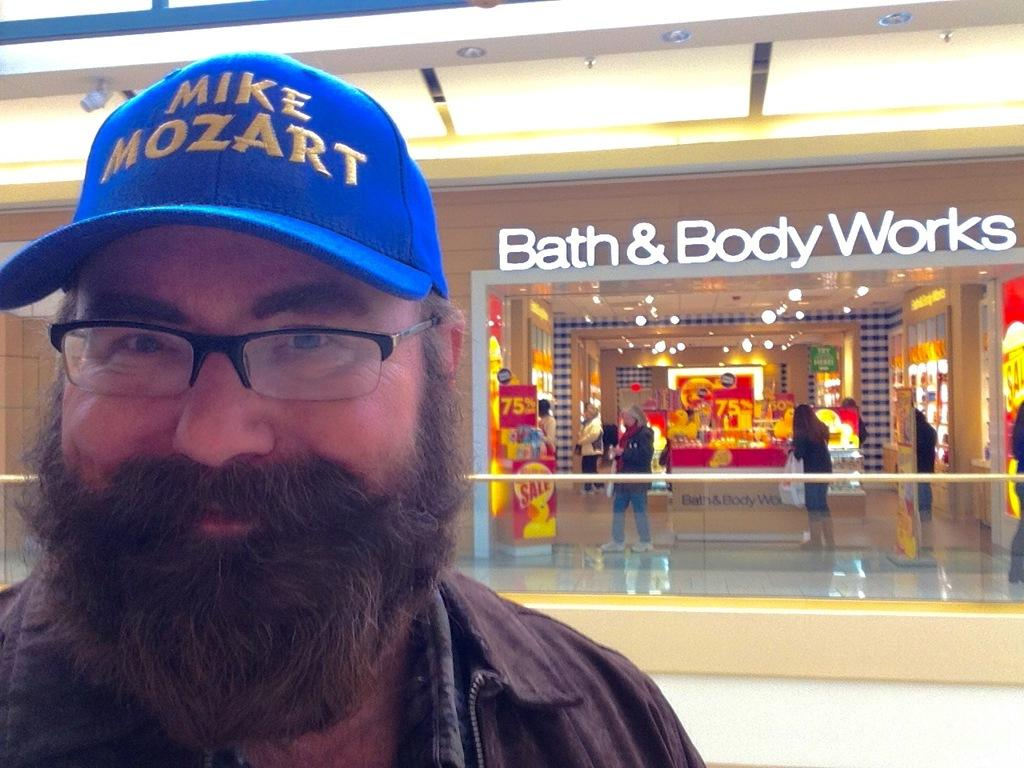Hat: (0, 47, 452, 311)
